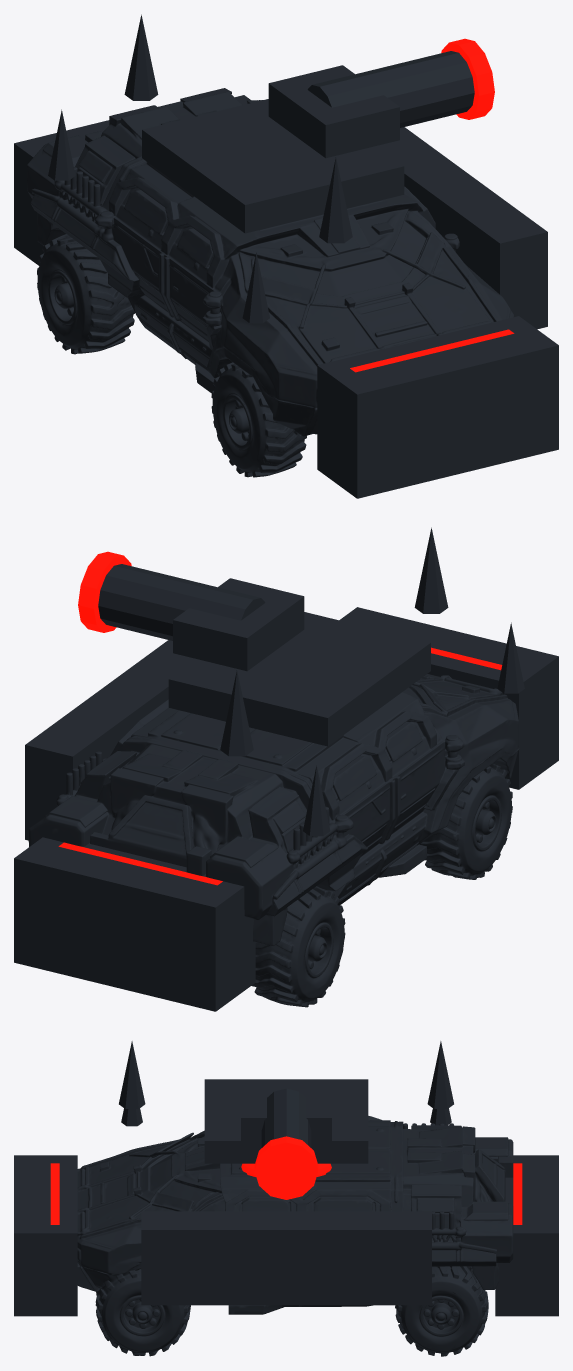
File: xenon_vehicle_xenon_v2.glb
3 renders of one model, top to bottom at view 1: azimuth 30°, elevation 25°; view 2: azimuth 150°, elevation 25°; view 3: azimuth 270°, elevation 25°, orthographic. The views are drawn at different scales.
Parts seen in each view (by area): view 1: texture_pbr_v128, XenonUpgrade_LeftSkirt, XenonUpgrade_TopSpine, XenonUpgrade_FrontWedge, XenonUpgrade_WeaponHousing, XenonUpgrade_WeaponBarrel, XenonUpgrade_RightSkirt, XenonUpgrade_Muzzle, XenonUpgrade_DorsalSpike0, XenonUpgrade_DorsalSpike1, XenonUpgrade_RearSpike0, XenonUpgrade_RearSpike1 (+1 smaller); view 2: texture_pbr_v128, XenonUpgrade_RightSkirt, XenonUpgrade_TopSpine, XenonUpgrade_FrontWedge, XenonUpgrade_LeftSkirt, XenonUpgrade_WeaponHousing, XenonUpgrade_WeaponBarrel, XenonUpgrade_Muzzle, XenonUpgrade_DorsalSpike1, XenonUpgrade_DorsalSpike0, XenonUpgrade_RearSpike1, XenonUpgrade_RearSpike0 (+1 smaller); view 3: texture_pbr_v128, XenonUpgrade_FrontWedge, XenonUpgrade_LeftSkirt, XenonUpgrade_RightSkirt, XenonUpgrade_TopSpine, XenonUpgrade_Muzzle, XenonUpgrade_WeaponHousing, XenonUpgrade_WeaponBarrel, XenonUpgrade_DorsalSpike0, XenonUpgrade_DorsalSpike1, XenonGlow_Left, XenonGlow_Right.
Boxes of the visible parts, x1=… form: texture_pbr_v128: x1=27, y1=88, x2=513, y2=477; XenonUpgrade_LeftSkirt: x1=317, y1=316, x2=558, y2=498; XenonUpgrade_TopSpine: x1=142, y1=99, x2=404, y2=233; XenonUpgrade_FrontWedge: x1=377, y1=127, x2=547, y2=329; XenonUpgrade_WeaponHousing: x1=268, y1=65, x2=399, y2=158; XenonUpgrade_WeaponBarrel: x1=307, y1=51, x2=474, y2=127; XenonUpgrade_RightSkirt: x1=14, y1=120, x2=109, y2=265; XenonUpgrade_Muzzle: x1=441, y1=38, x2=494, y2=119; XenonUpgrade_DorsalSpike0: x1=319, y1=157, x2=352, y2=243; XenonUpgrade_DorsalSpike1: x1=124, y1=14, x2=158, y2=100; XenonUpgrade_RearSpike0: x1=242, y1=252, x2=269, y2=323; XenonUpgrade_RearSpike1: x1=48, y1=109, x2=75, y2=180; texture_pbr_v128: x1=28, y1=674, x2=519, y2=1007; XenonUpgrade_RightSkirt: x1=14, y1=837, x2=255, y2=1011; XenonUpgrade_TopSpine: x1=168, y1=612, x2=430, y2=746; XenonUpgrade_FrontWedge: x1=25, y1=640, x2=195, y2=840; XenonUpgrade_LeftSkirt: x1=339, y1=607, x2=558, y2=789; XenonUpgrade_WeaponHousing: x1=173, y1=578, x2=304, y2=671; XenonUpgrade_WeaponBarrel: x1=98, y1=564, x2=265, y2=640; XenonUpgrade_Muzzle: x1=78, y1=551, x2=131, y2=632; XenonUpgrade_DorsalSpike1: x1=220, y1=670, x2=253, y2=756; XenonUpgrade_DorsalSpike0: x1=414, y1=527, x2=448, y2=613; XenonUpgrade_RearSpike1: x1=303, y1=765, x2=330, y2=836; XenonUpgrade_RearSpike0: x1=497, y1=622, x2=524, y2=693; texture_pbr_v128: x1=77, y1=1116, x2=513, y2=1356; XenonUpgrade_FrontWedge: x1=141, y1=1211, x2=431, y2=1305; XenonUpgrade_LeftSkirt: x1=14, y1=1155, x2=77, y2=1316; XenonUpgrade_RightSkirt: x1=495, y1=1155, x2=558, y2=1316; XenonUpgrade_TopSpine: x1=204, y1=1079, x2=368, y2=1163; XenonUpgrade_Muzzle: x1=254, y1=1136, x2=318, y2=1199; XenonUpgrade_WeaponHousing: x1=241, y1=1089, x2=331, y2=1144; XenonUpgrade_WeaponBarrel: x1=261, y1=1088, x2=311, y2=1147; XenonUpgrade_DorsalSpike0: x1=119, y1=1041, x2=145, y2=1108; XenonUpgrade_DorsalSpike1: x1=427, y1=1041, x2=453, y2=1108; XenonGlow_Left: x1=50, y1=1163, x2=59, y2=1224; XenonGlow_Right: x1=513, y1=1163, x2=522, y2=1224.
Bounding box in the file's own units: 0.7155 × 0.6658 × 1.3.
